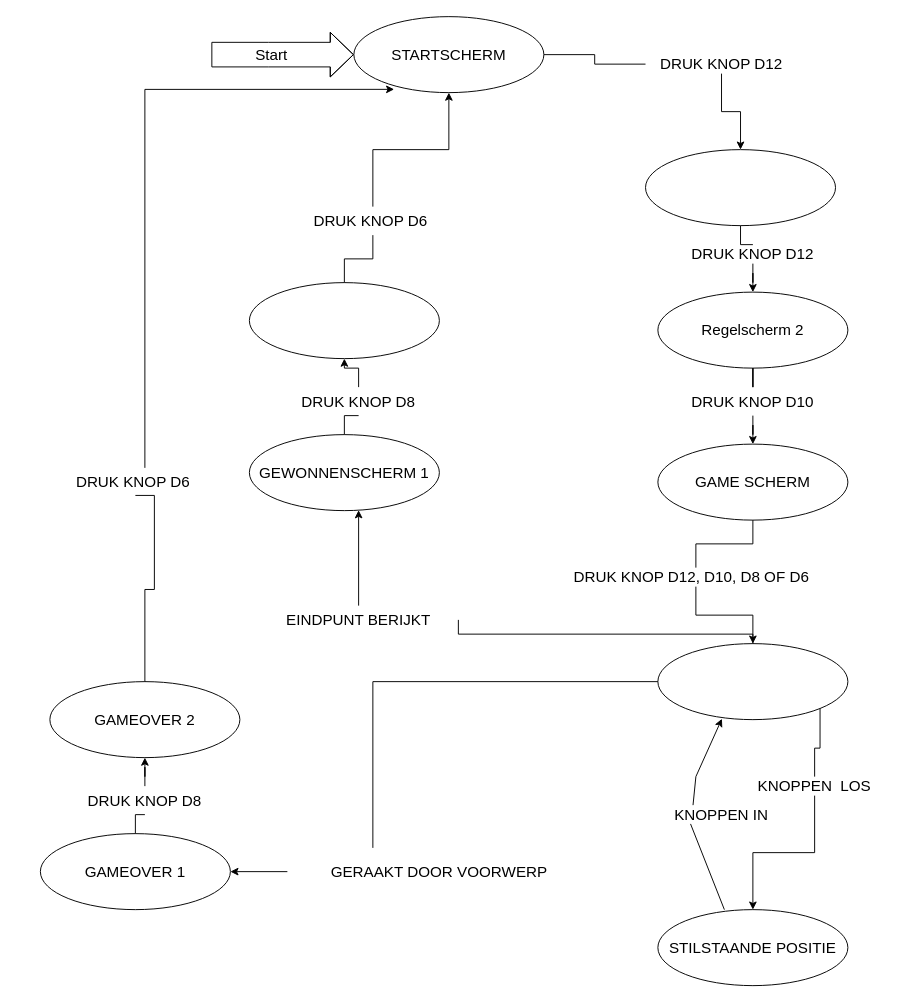
Some shapes in this 921 by 1002 pixel diagram are drawn without their labels. The centre of each missing label's shape, as x and y in pixels:
"Beweeg voor-/achteruit of omhoog/omlaag" goes at [752,681].
"GEWONNENSCHERM 2" goes at [343,320].
"Regelscherm 1" goes at [740,187].
